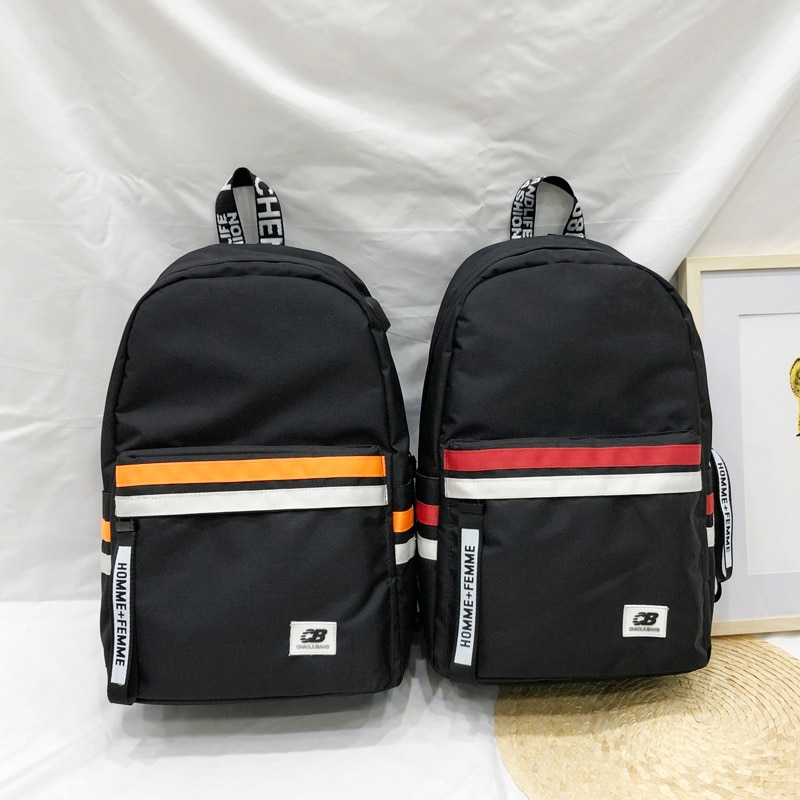Men's Backpacks: (99, 166, 423, 703), (415, 177, 733, 684)
